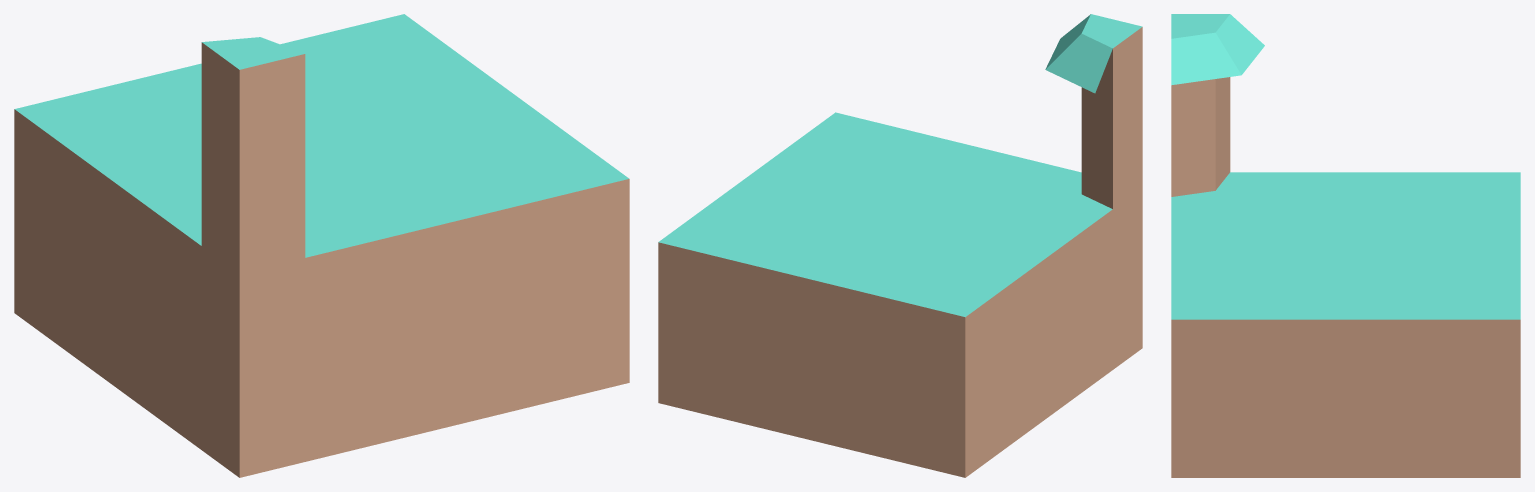
Rendered from cliff_cornerTop_half_rock.glb.
3 views of the same model, side by side, from view 1: azimuth 30°, elevation 25°; view 2: azimuth 150°, elevation 25°; view 3: azimuth 270°, elevation 25° (orthographic). The views are drawn at different scales.
Visible parts, largest first — view 1: cliff_cornerTop_half_rock; view 2: cliff_cornerTop_half_rock; view 3: cliff_cornerTop_half_rock.
Boxes of the visible parts, x1,y1,x2,y2 form: cliff_cornerTop_half_rock: (14,14,629,477); cliff_cornerTop_half_rock: (658,14,1142,477); cliff_cornerTop_half_rock: (1171,14,1520,477).
Bounding box in the file's own units: 1 × 1 × 1.
